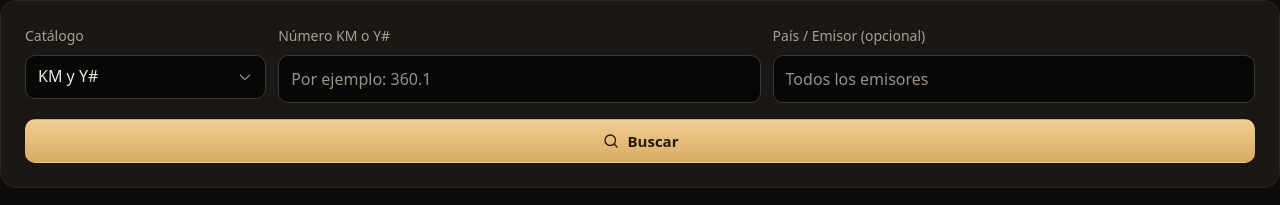
el campo muestra el país elegido cuando no se está escribiendo
The image size is (1280, 205).
Type "costa" into the dropdown labelled "País / Emisor (opcional)" at x=1014, y=79, box [773,55,1255,103]
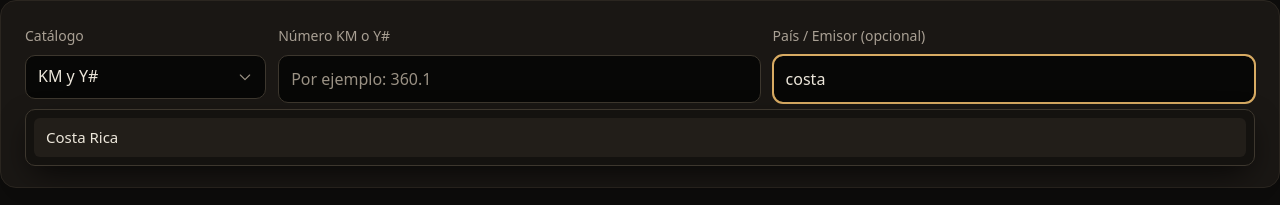
Click the option "Costa Rica" at x=82, y=137, box [34,118,1246,157]
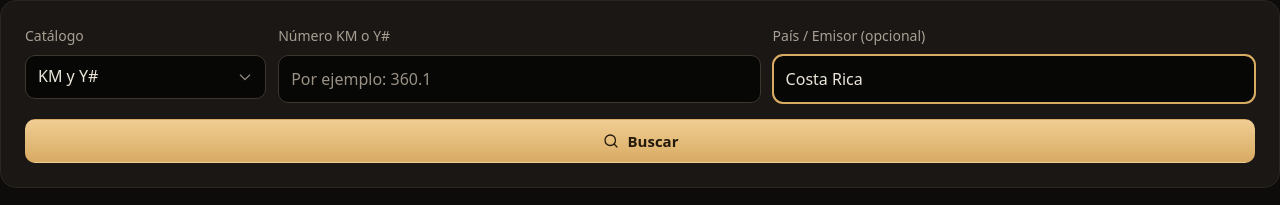
Now the dropdown labelled "País / Emisor (opcional)" holds "Costa Rica", box [773,55,1255,103]
Now the list is gone
